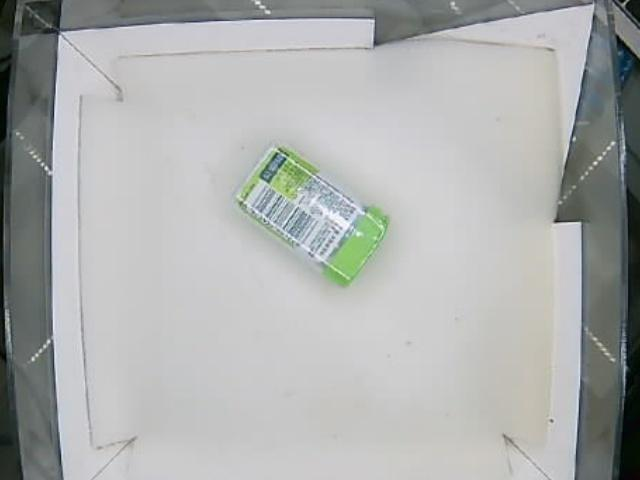Bottle: (231, 145, 389, 288)
